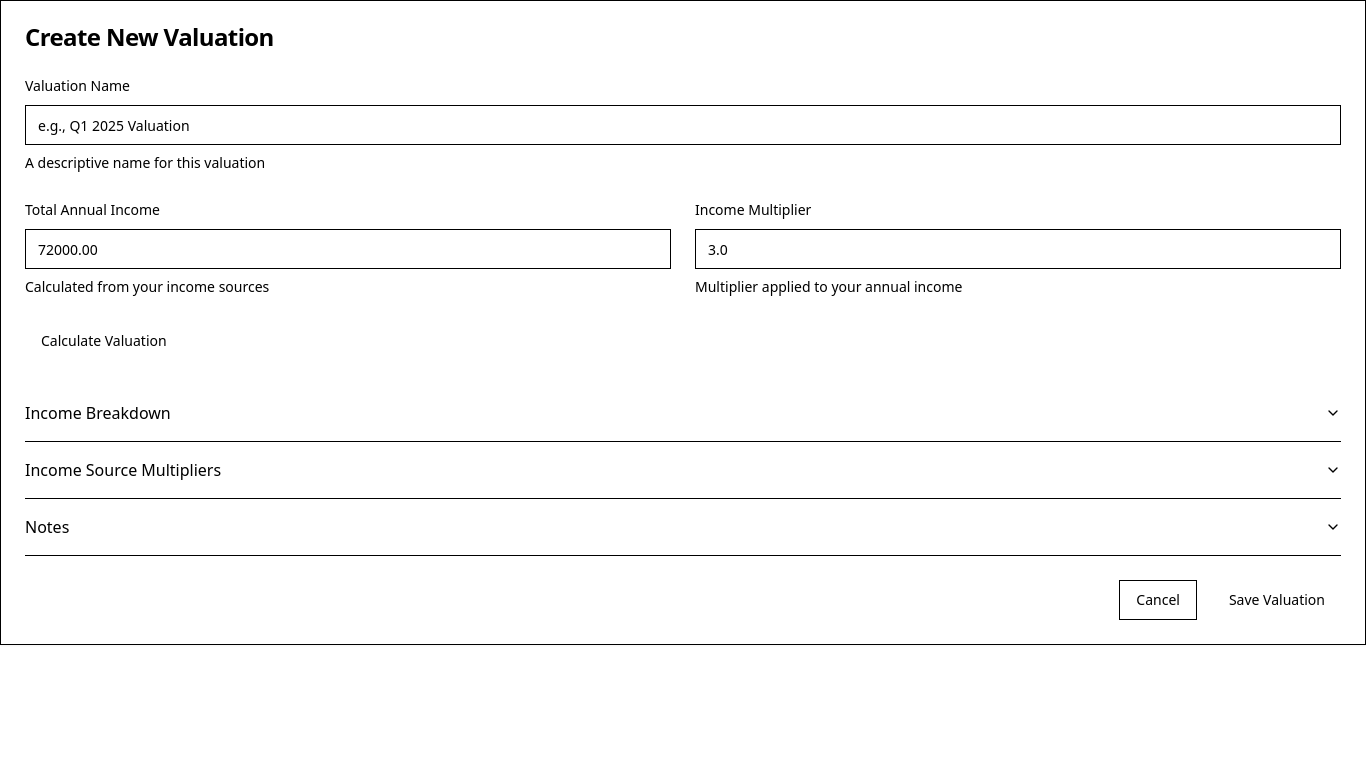
ValuationForm component › calculates valuation correctly when Calculate Valuation button is clicked
The width and height of the screenshot is (1366, 768).
// Click the Calculate Valuation button
What coordinates should you click on to do the following:
click the button "Calculate Valuation"
I would click on:
 (104, 341)
Its box is [25,321,183,361].
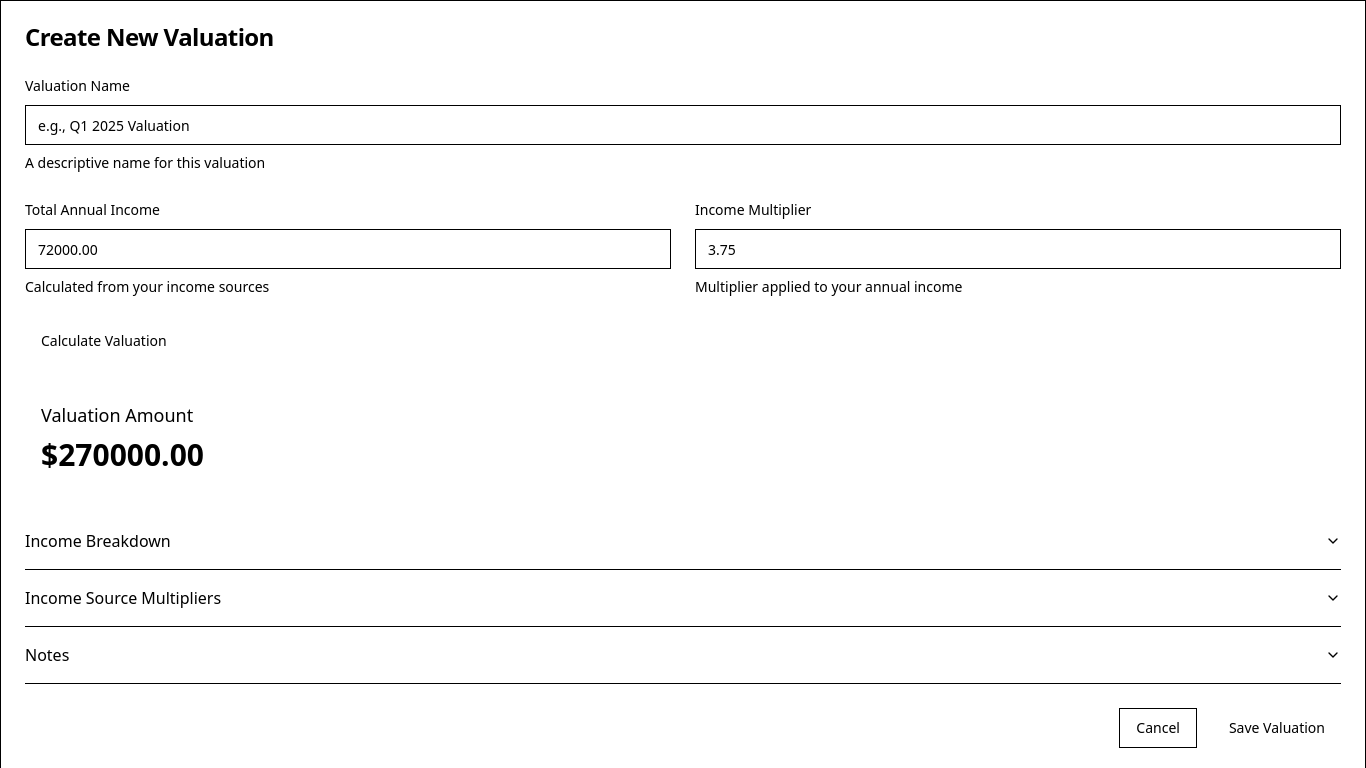
Expected: the heading "Valuation Amount" is shown, [41,403,193,427]
